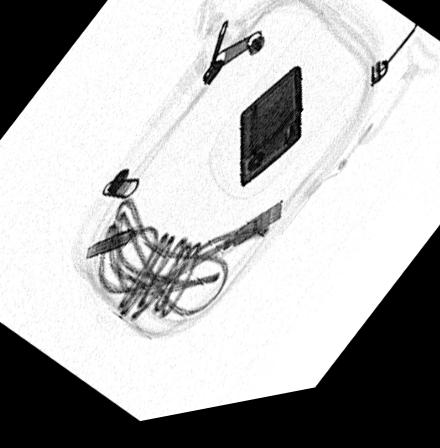Lighter: (238, 76, 303, 197)
